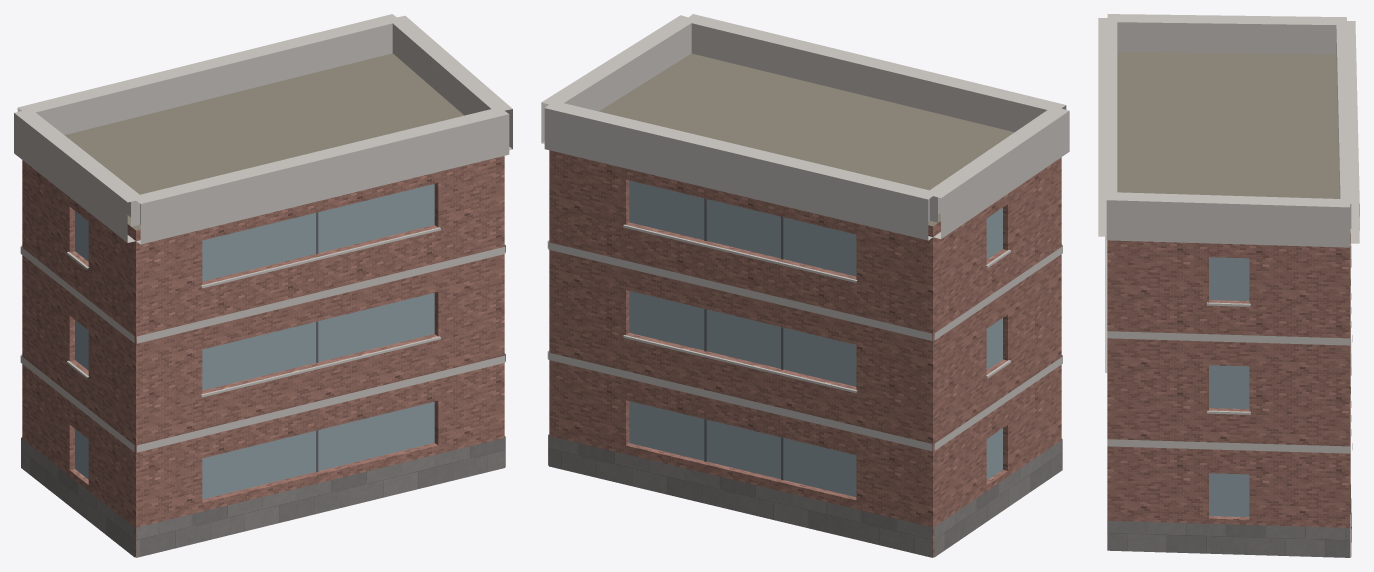
3 renders of one model, left to right at view 1: azimuth 30°, elevation 25°; view 2: azimuth 150°, elevation 25°; view 3: azimuth 270°, elevation 25°, orthographic. The views are drawn at different scales.
Parts seen in each view (by area): view 1: b52_2__wall, b52_2__trim, b52_2__glass, b52_2__roof, b52_2__base; view 2: b52_2__wall, b52_2__trim, b52_2__glass, b52_2__roof, b52_2__base, b52_2__frame; view 3: b52_2__wall, b52_2__trim, b52_2__roof, b52_2__base, b52_2__glass.
Part boxes in pixels (bbox=[...]): b52_2__wall: bbox=[22, 156, 504, 557]; b52_2__trim: bbox=[14, 14, 512, 452]; b52_2__glass: bbox=[75, 184, 434, 499]; b52_2__roof: bbox=[64, 53, 463, 557]; b52_2__base: bbox=[21, 436, 505, 557]; b52_2__wall: bbox=[549, 150, 1061, 557]; b52_2__trim: bbox=[541, 14, 1069, 451]; b52_2__glass: bbox=[629, 180, 1002, 496]; b52_2__roof: bbox=[599, 53, 1014, 557]; b52_2__base: bbox=[548, 434, 1062, 557]; b52_2__frame: bbox=[704, 198, 783, 480]; b52_2__wall: bbox=[1107, 233, 1350, 556]; b52_2__trim: bbox=[1098, 14, 1359, 453]; b52_2__roof: bbox=[1117, 52, 1350, 557]; b52_2__base: bbox=[1107, 484, 1351, 557]; b52_2__glass: bbox=[1209, 257, 1249, 517].
Size of the model in its own units: 13.82 by 11.81 by 7.9.
6 materials, 2 textured.
